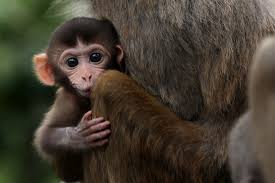monkey: (31, 12, 127, 138)
